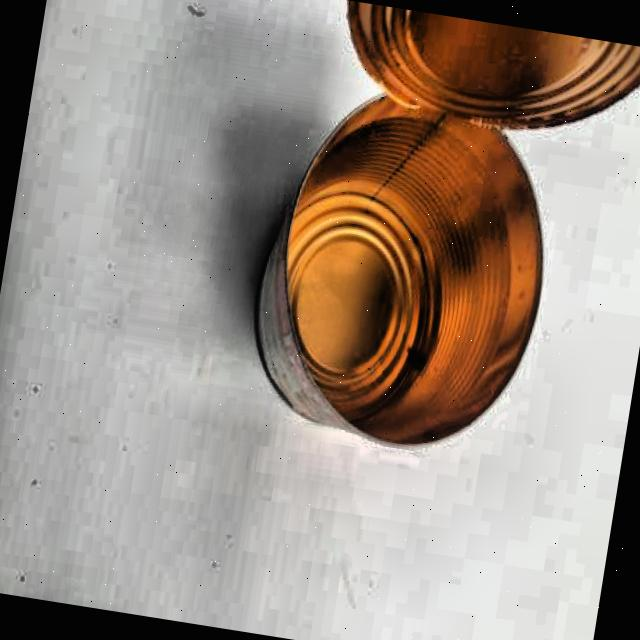metal: (237, 0, 640, 475)
